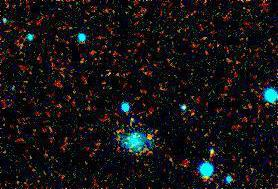star: (133, 122, 163, 152)
